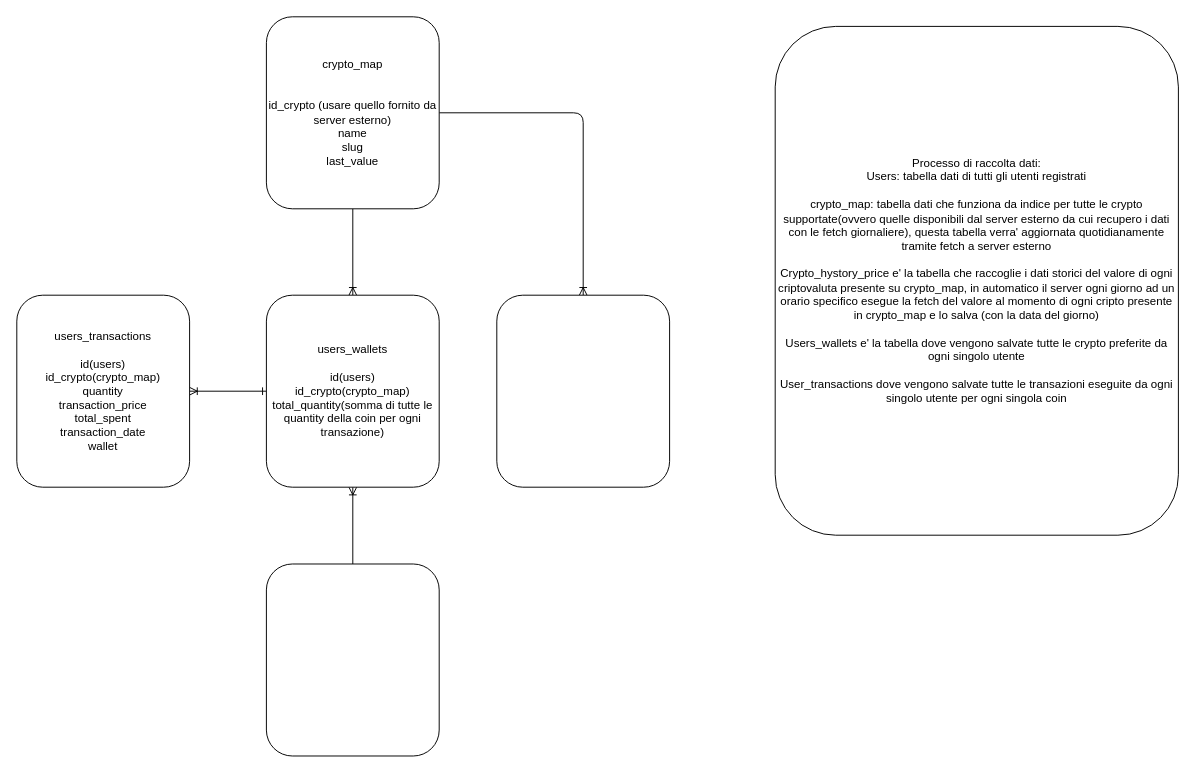
This 1195x773 diagram has some shape labels left out. Here are the shapes that lost their labels. From the top down, the centre of each, then its label:
At (583,390): "crypto_history_prices id_crypto(preso da crypto_map) name slug price date".
At (352,659): "users id nickname/email password".
